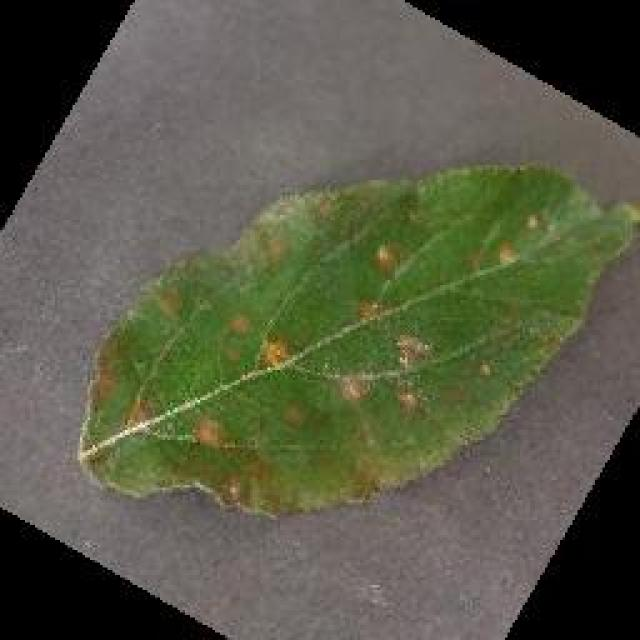apple scab disease: (75, 158, 637, 520)
